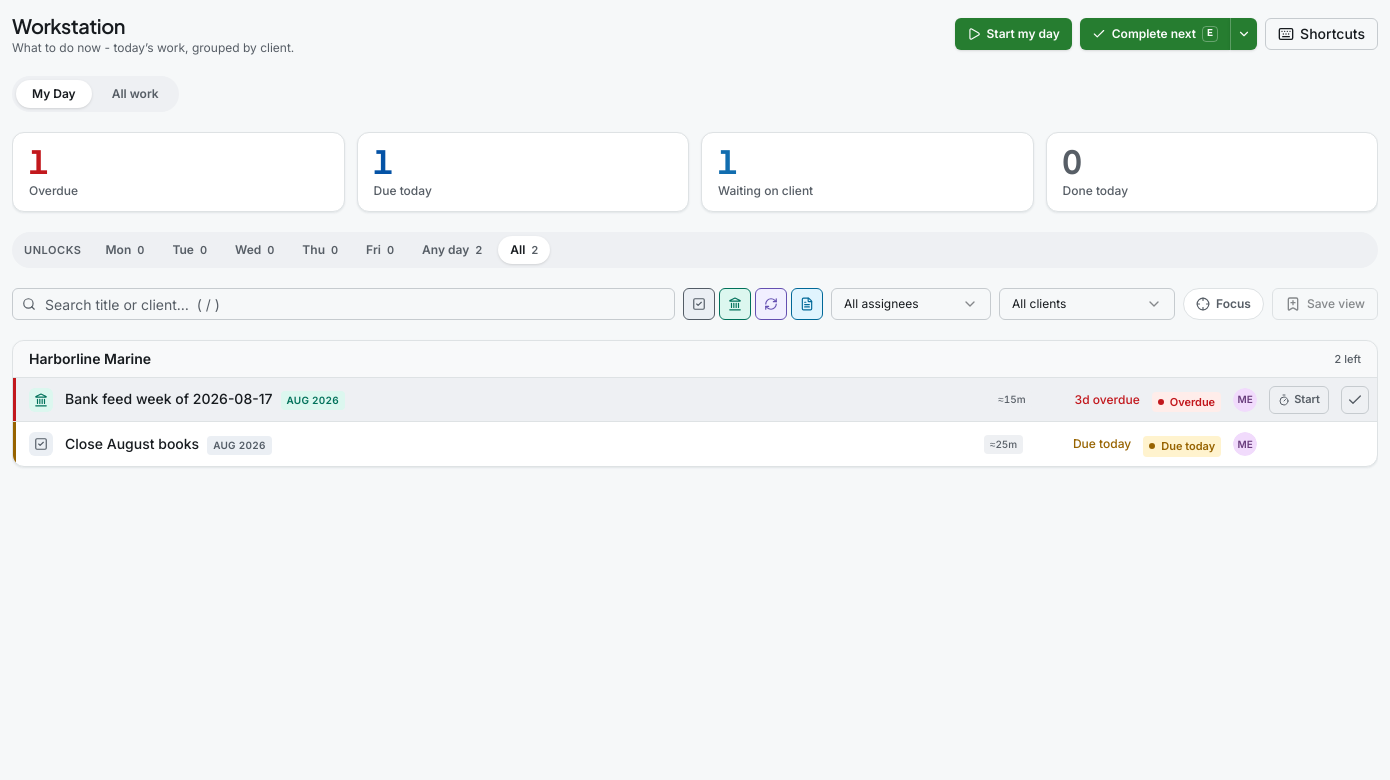
Test case: WorkstationQueue - full queue › filters by search text across title and client
Click the tab with test id "view-tab-queue" at (135, 94), box [96,80,175,108]
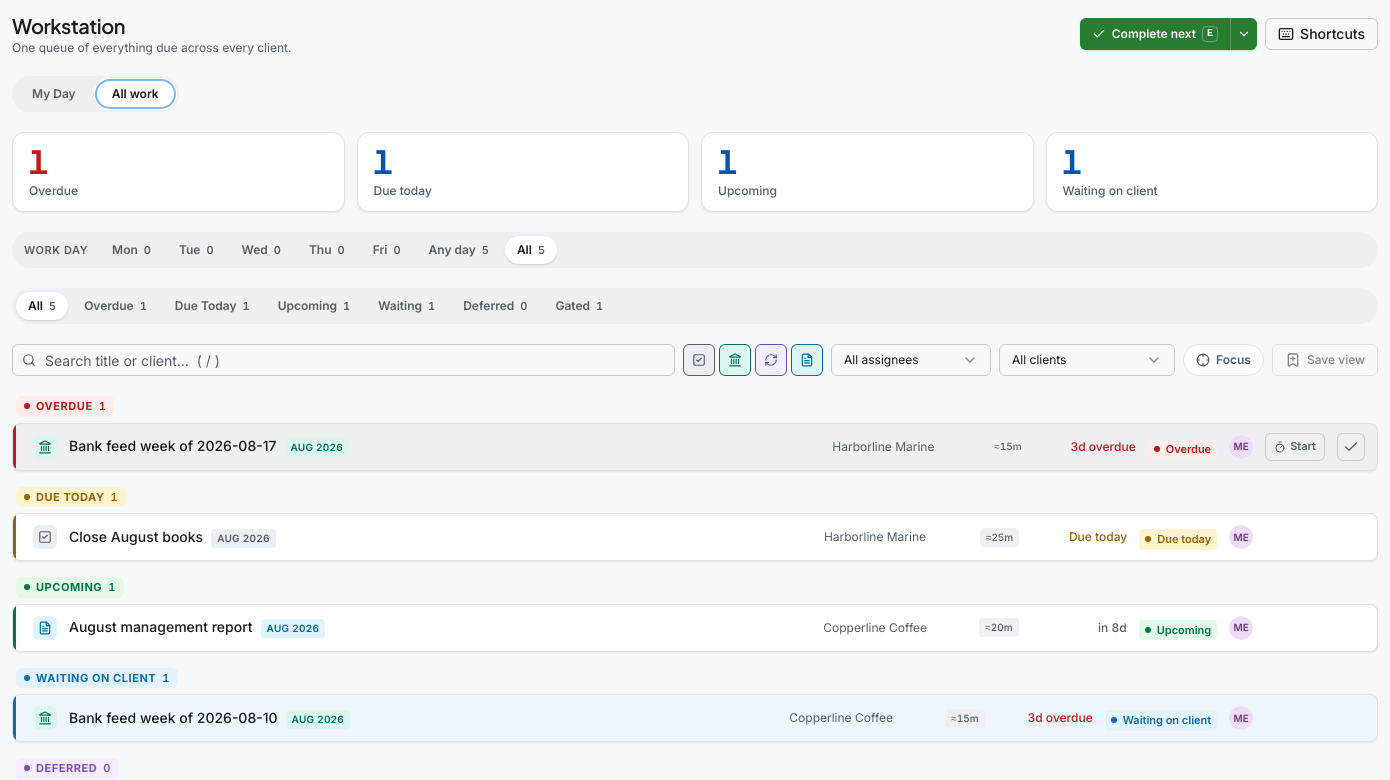
Type "management" into the field named "Search work items" at (344, 360), box [12,344,675,376]
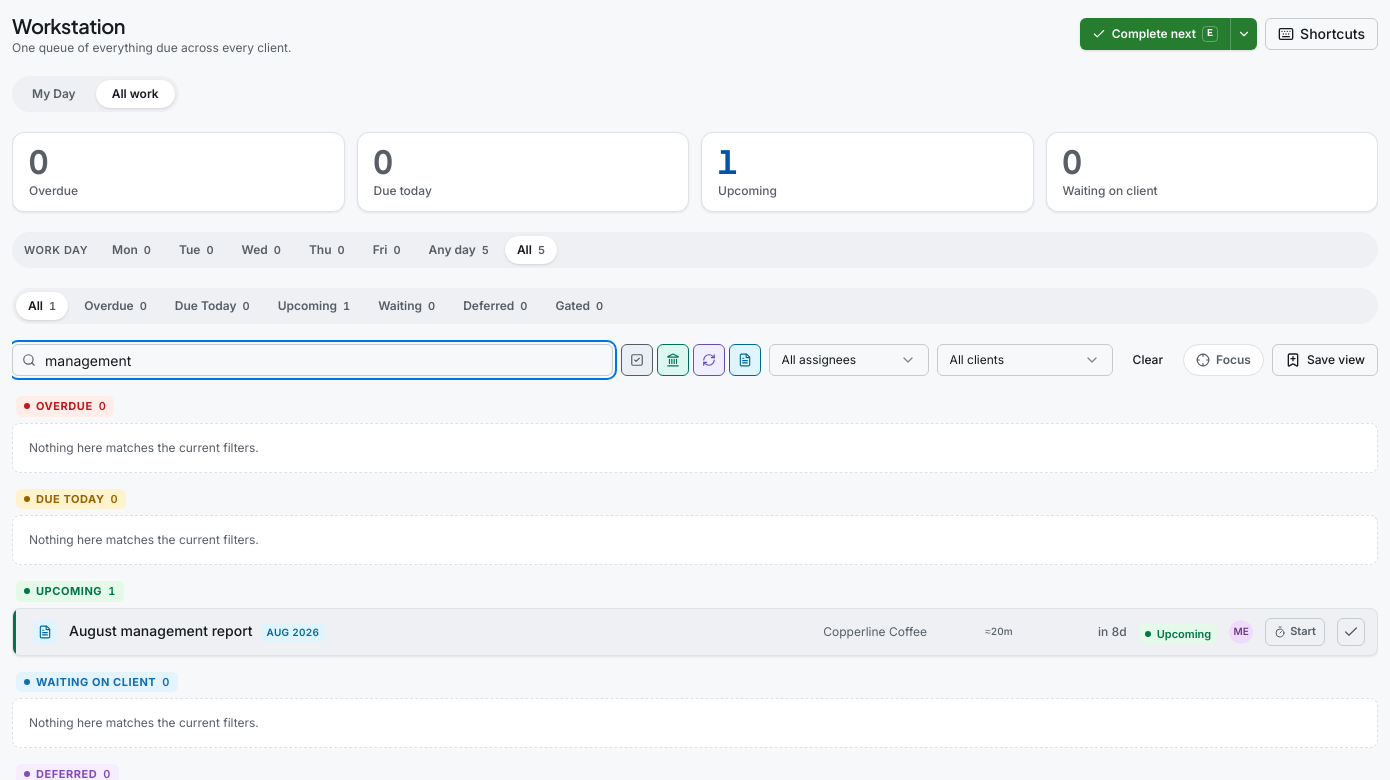
Expected: the text "August management report" is shown, [69,621,253,641]
Expected: the text "Close August books" is gone
Clear the field named "Search work items" at (312, 360), box [12,344,613,376]
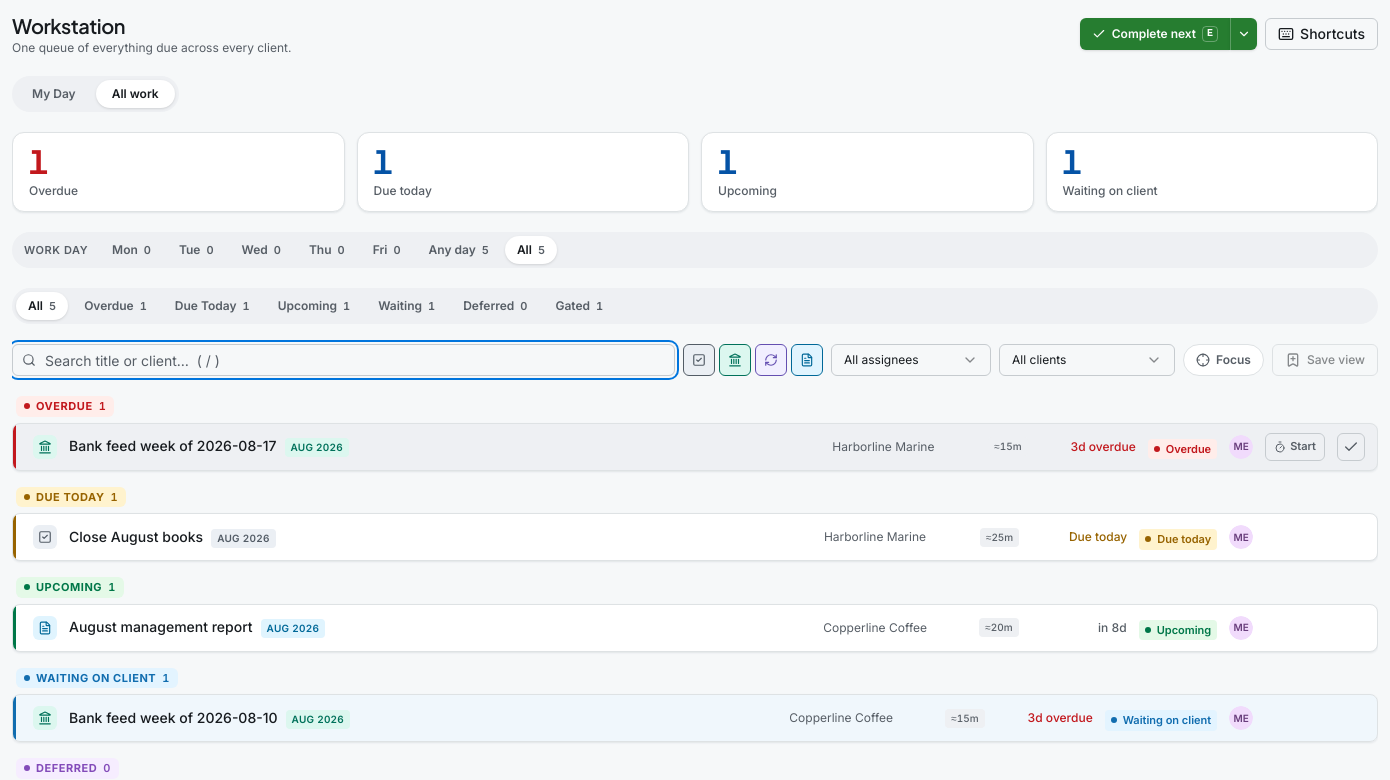
Type "zzz" into the field named "Search work items" at (344, 360), box [12,344,675,376]
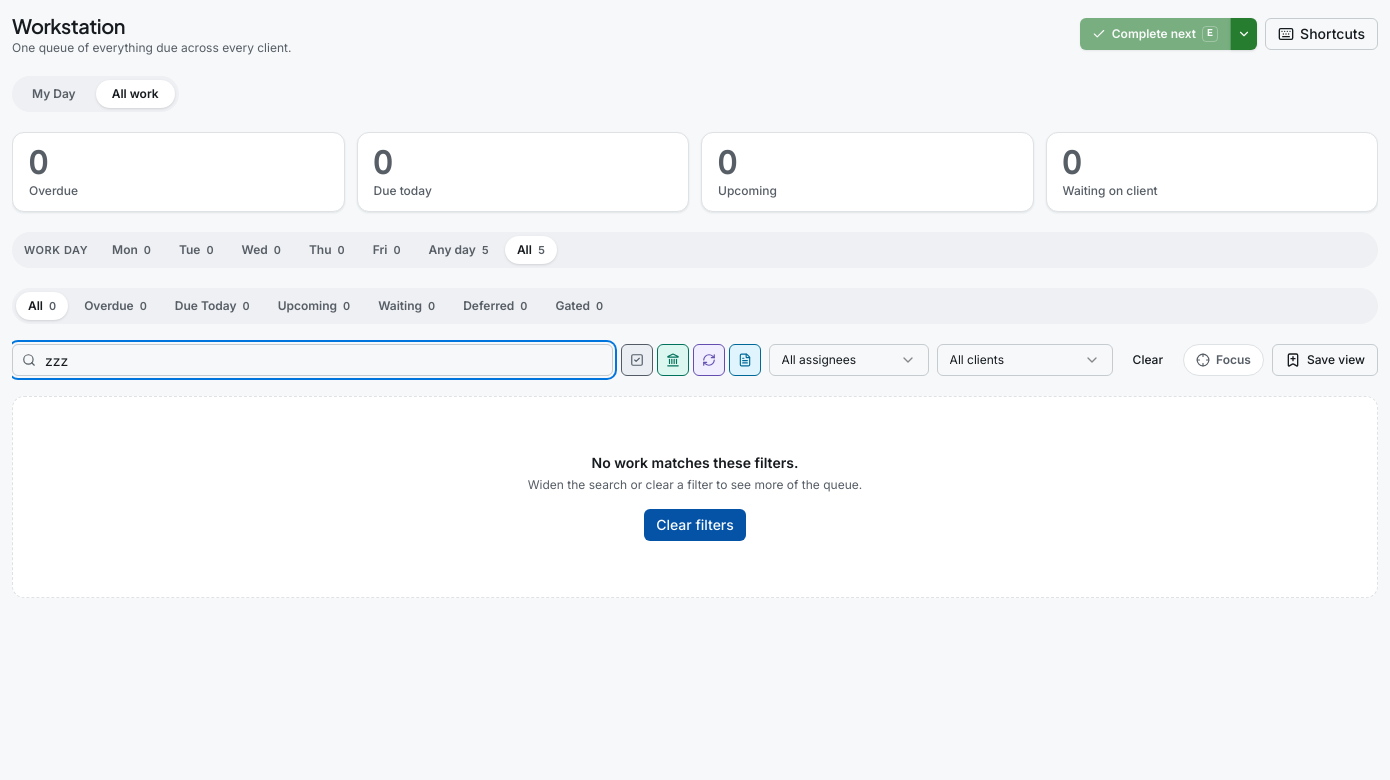
Expected: the text "No work matches these filters." is shown, [592,453,798,473]
